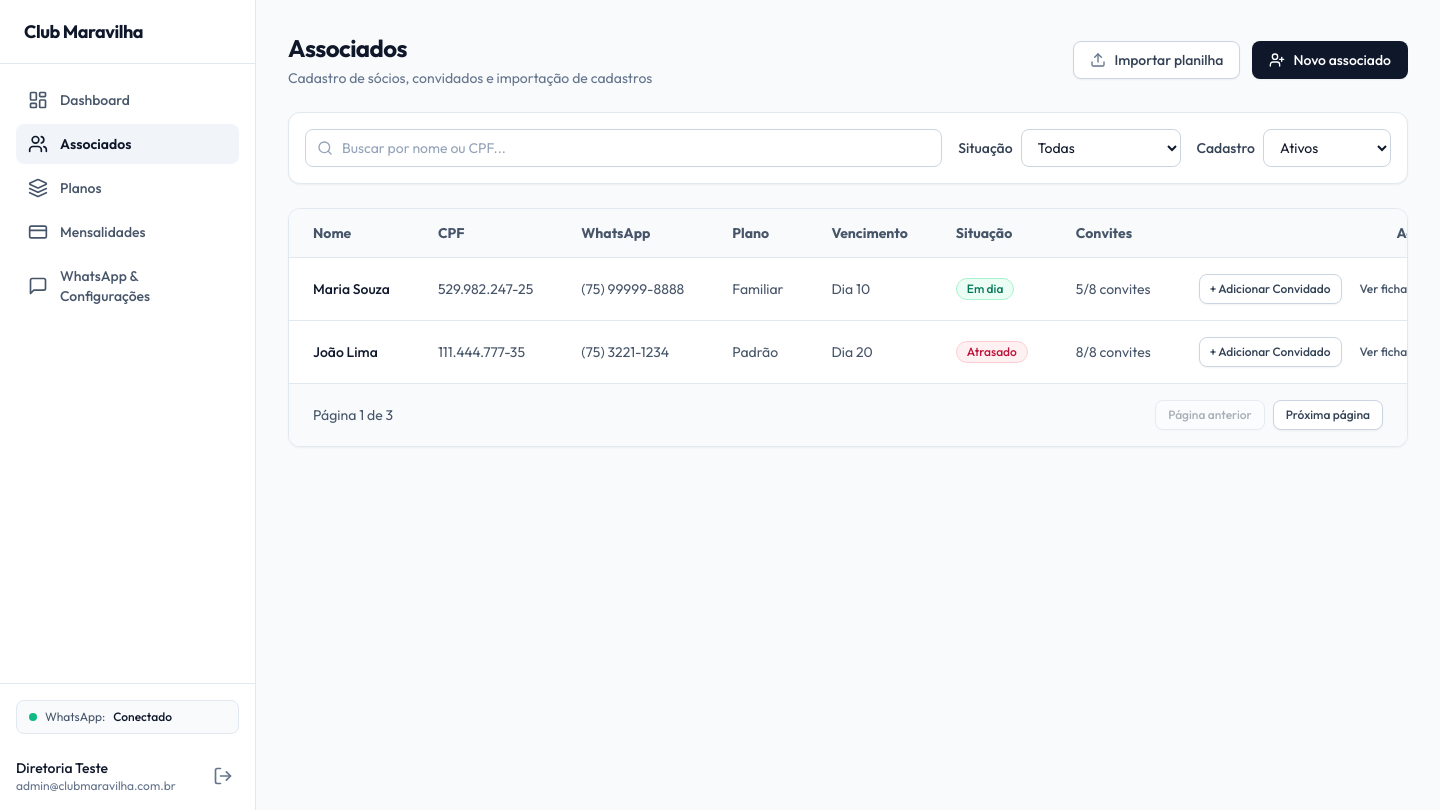
AssociadosPage - busca, filtro e paginação › paginação
Expected: the text "Página 1 de 3" is shown, top-left (313, 405), bottom-right (393, 425)
Expected: the button "Página anterior" is disabled, top-left (1155, 400), bottom-right (1265, 430)
Step 1. Click the button "Próxima página" → (1328, 415), box top-left (1273, 400), bottom-right (1383, 430)
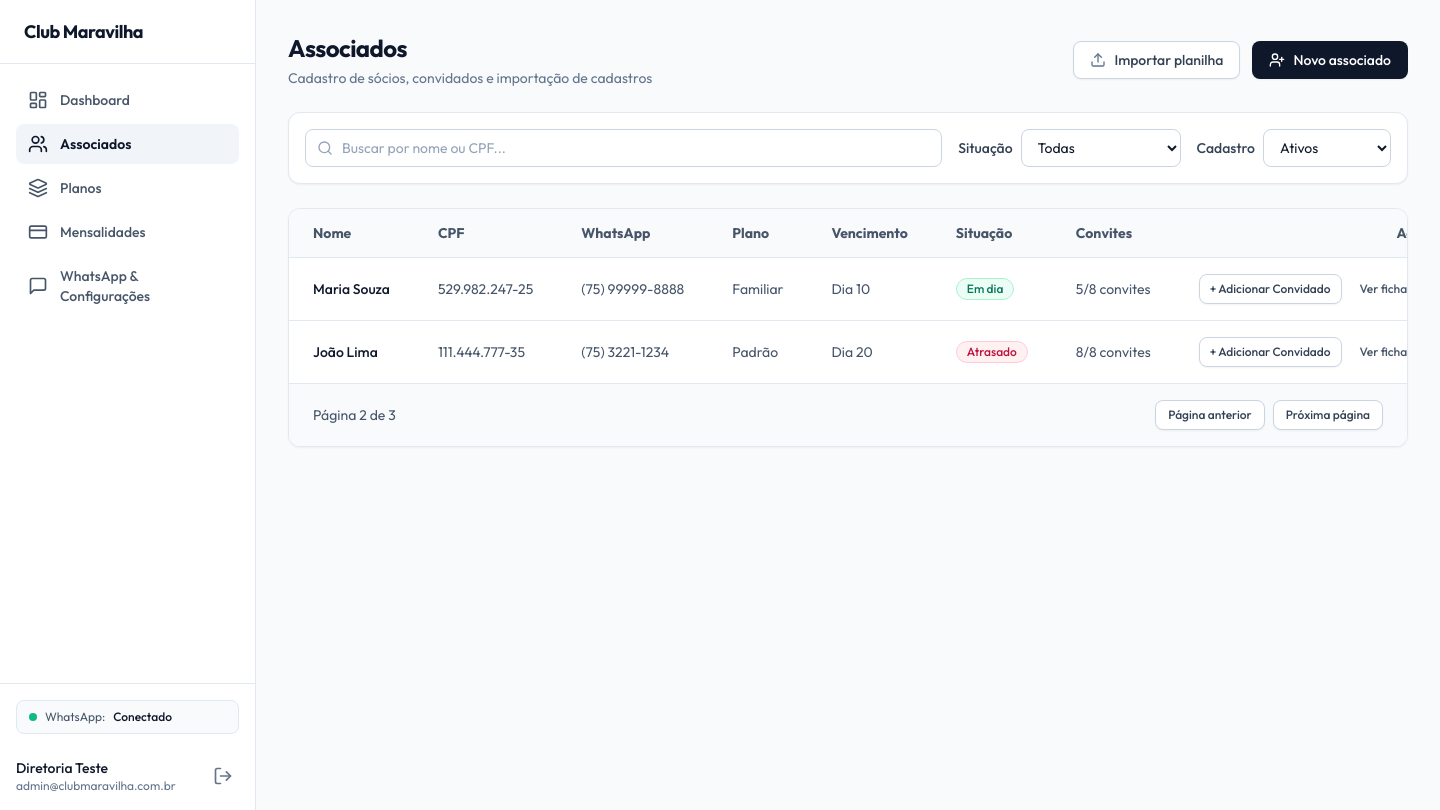
Expected: the text "Página 2 de 3" is shown, top-left (313, 405), bottom-right (396, 425)
Expected: the button "Página anterior" is enabled, top-left (1155, 400), bottom-right (1265, 430)
